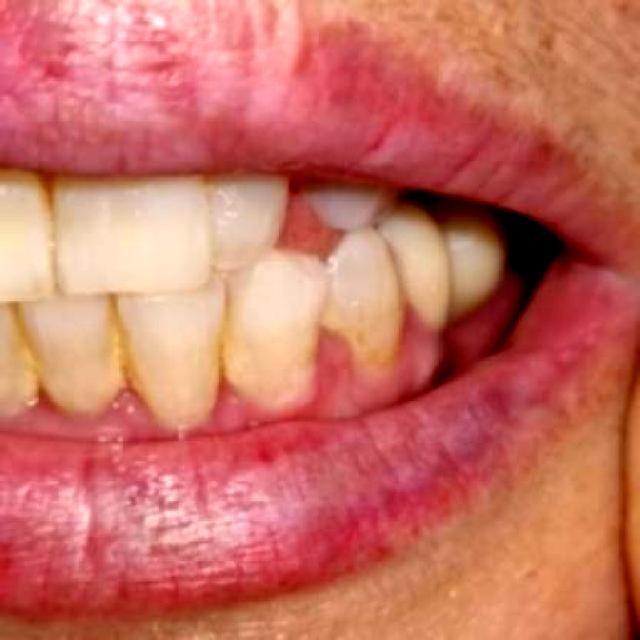Plaque: (17, 328, 415, 448)
